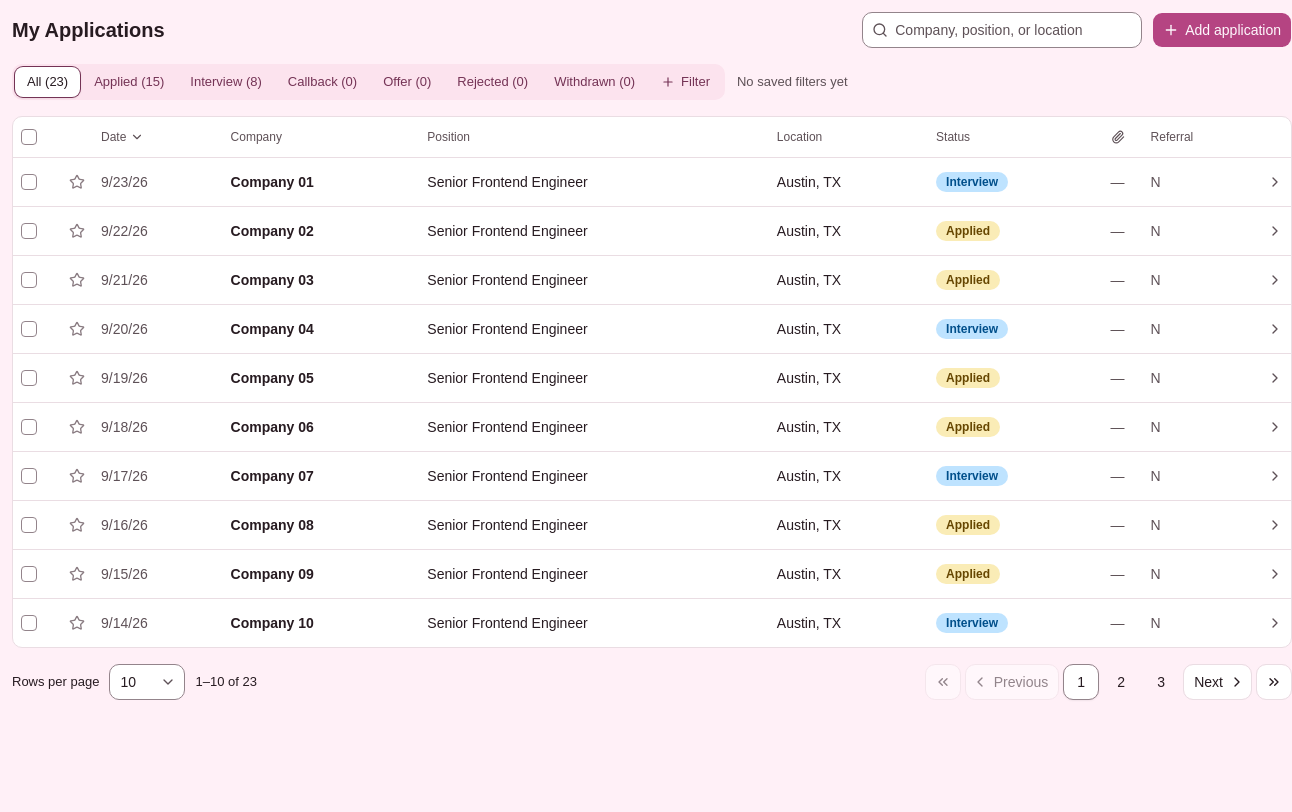
Scenario: selection across pages (§4.2) › selects all on this page only, and a change of page clears it
Click the checkbox named "Select all applications": [29, 137] box [21,129,37,145]
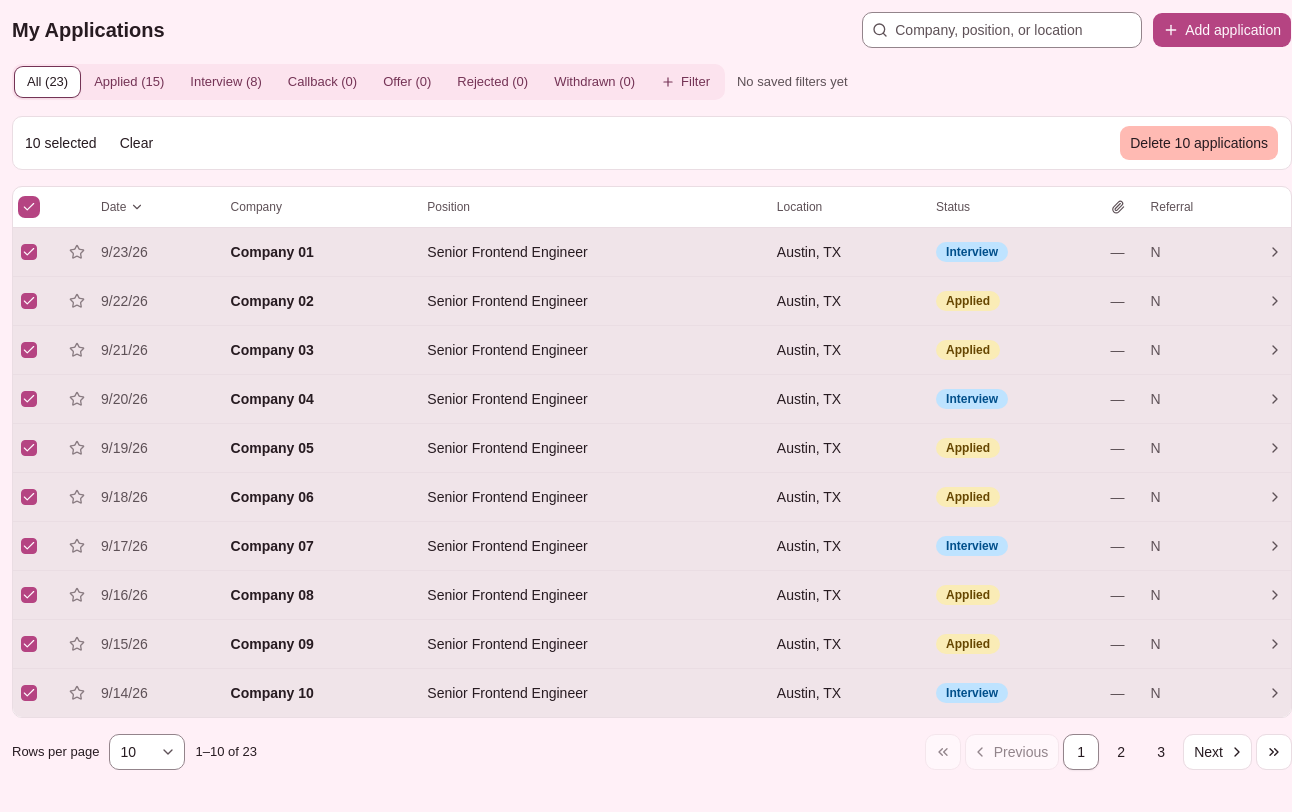
Result: the button "Delete 10 applications" is shown at [1119,125,1279,161]
Click the link "Next": [1218, 752] box [1183,734,1252,770]
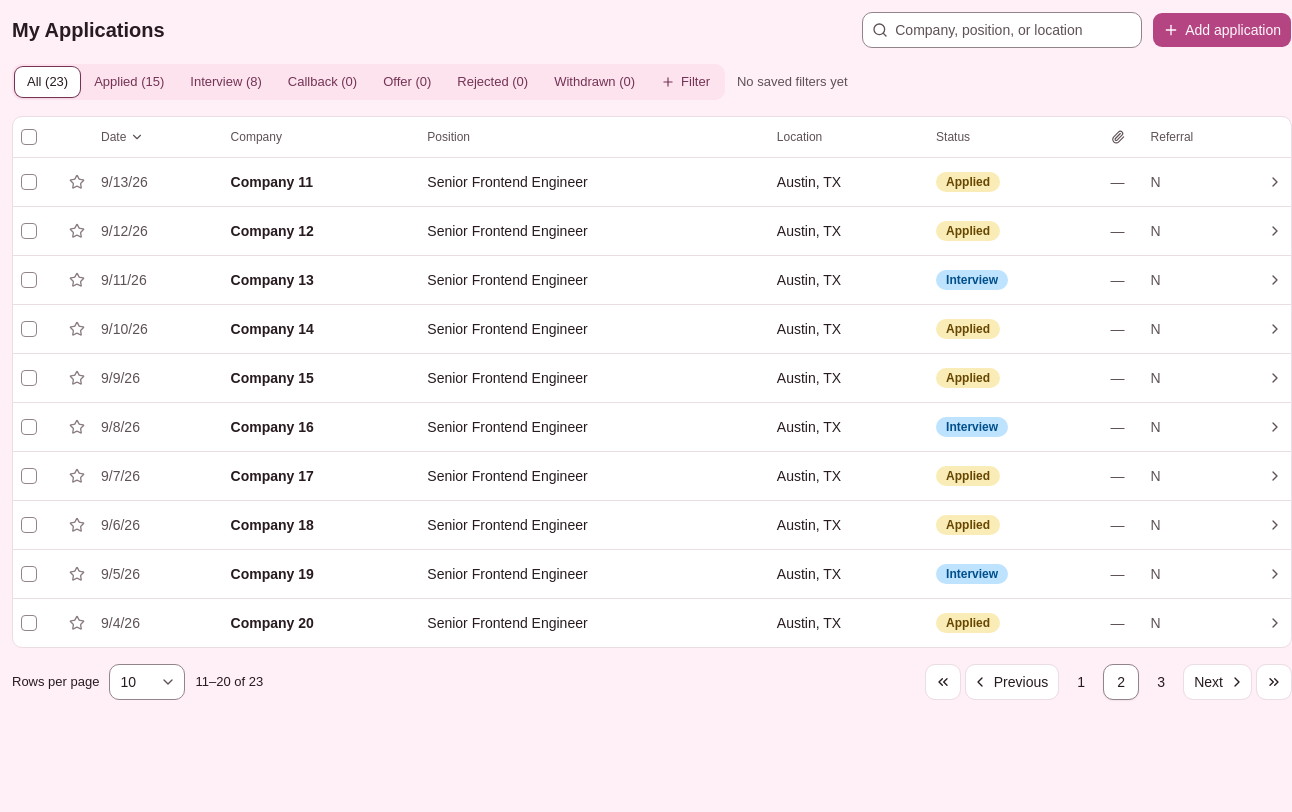
Result: the button "Delete " is gone
